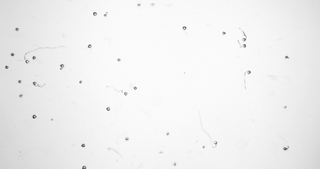germinated: (243, 68, 252, 76), (282, 143, 290, 152), (118, 89, 128, 96), (212, 139, 219, 148), (23, 54, 30, 63), (241, 33, 248, 41), (32, 81, 40, 88), (238, 43, 247, 49)
nongerminated: (132, 84, 139, 92), (220, 30, 227, 37), (181, 24, 188, 31), (116, 56, 123, 63), (80, 141, 87, 148), (31, 112, 38, 119), (104, 105, 112, 111), (9, 51, 15, 59), (283, 53, 289, 60), (124, 135, 131, 141), (86, 43, 92, 50), (135, 2, 142, 8), (14, 26, 20, 33), (3, 64, 10, 70), (92, 11, 98, 17), (164, 131, 170, 137), (77, 79, 83, 85), (31, 54, 37, 60), (16, 78, 21, 85), (18, 92, 23, 99), (103, 12, 109, 17), (59, 62, 64, 67)
